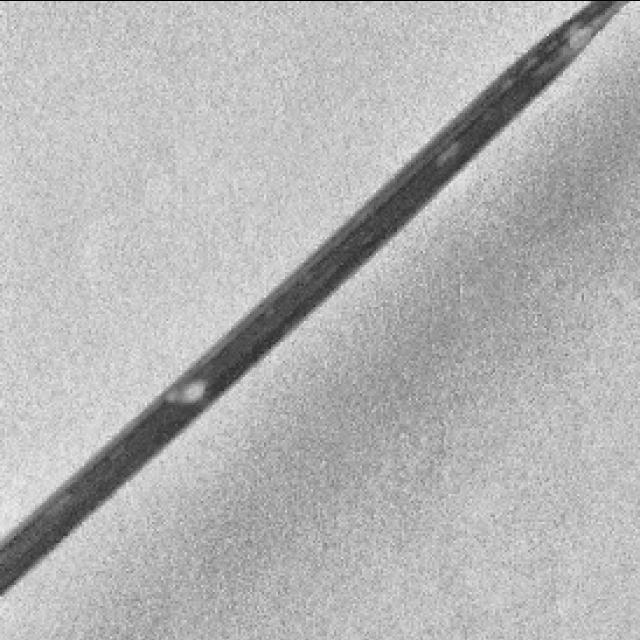Leaf_Blast: (425, 0, 640, 175), (150, 364, 224, 420)
